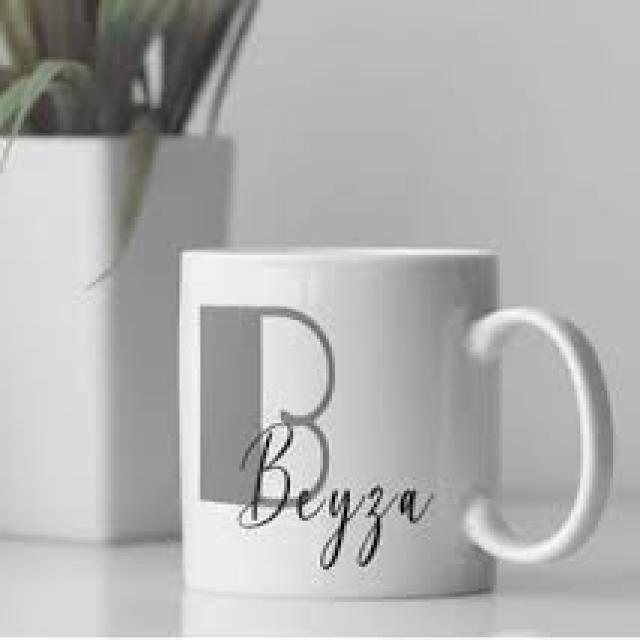taza: (178, 246, 614, 602)
